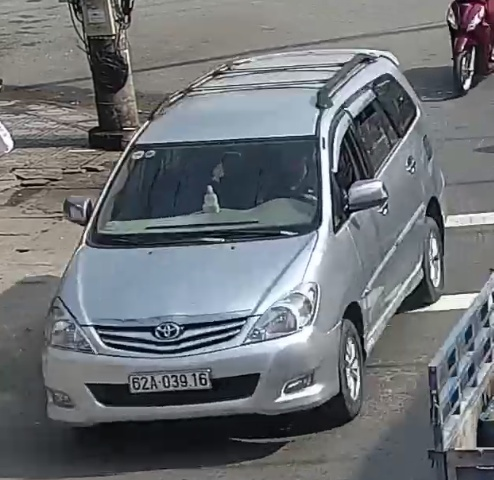vehicle plate: (124, 365, 226, 398)
